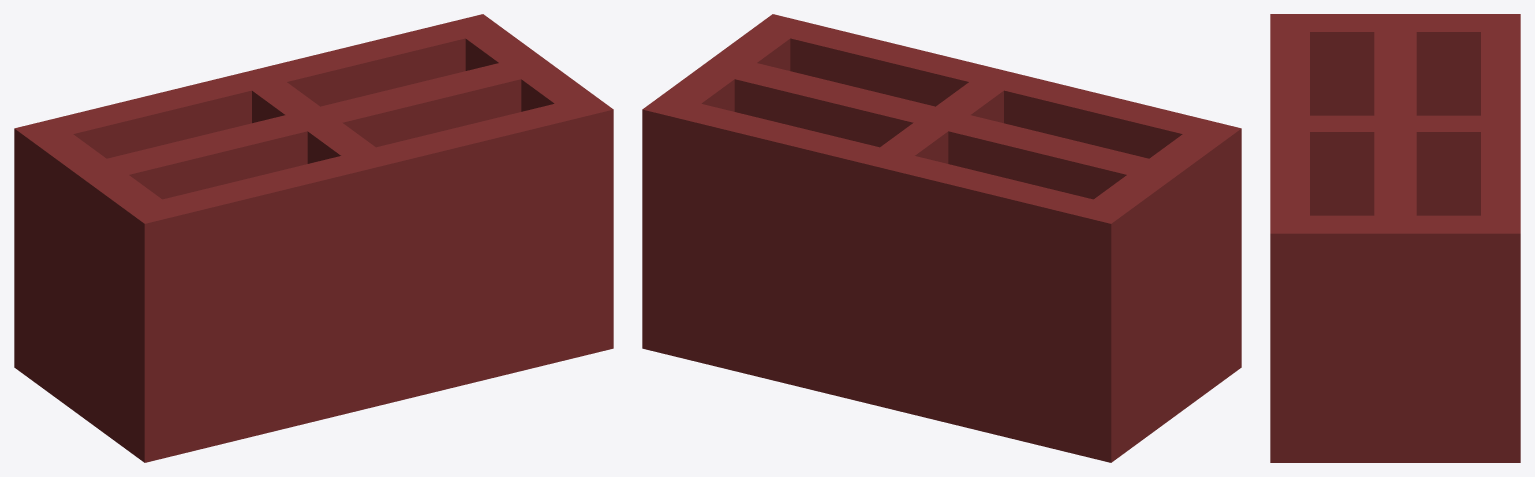
Rendered from SM_Stone01.fbx.
3 views of the same model, side by side, from view 1: azimuth 30°, elevation 25°; view 2: azimuth 150°, elevation 25°; view 3: azimuth 270°, elevation 25° (orthographic). The views are drawn at different scales.
Parts seen in each view (by area): view 1: Stone01; view 2: Stone01; view 3: Stone01.
Boxes of the visible parts, x1,y1,x2,y2 form: Stone01: [14, 14, 613, 462]; Stone01: [642, 14, 1241, 462]; Stone01: [1270, 14, 1520, 462].
Bounding box in the file's own units: 39 × 19 × 18.8.
